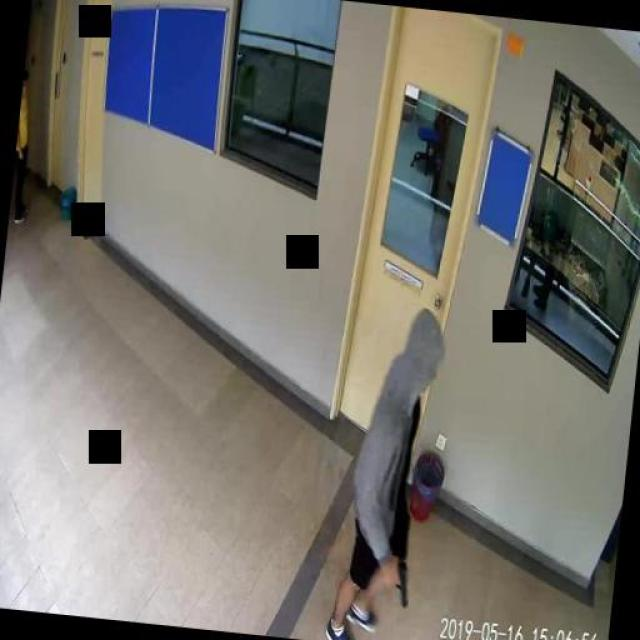gun: (379, 558, 410, 606)
